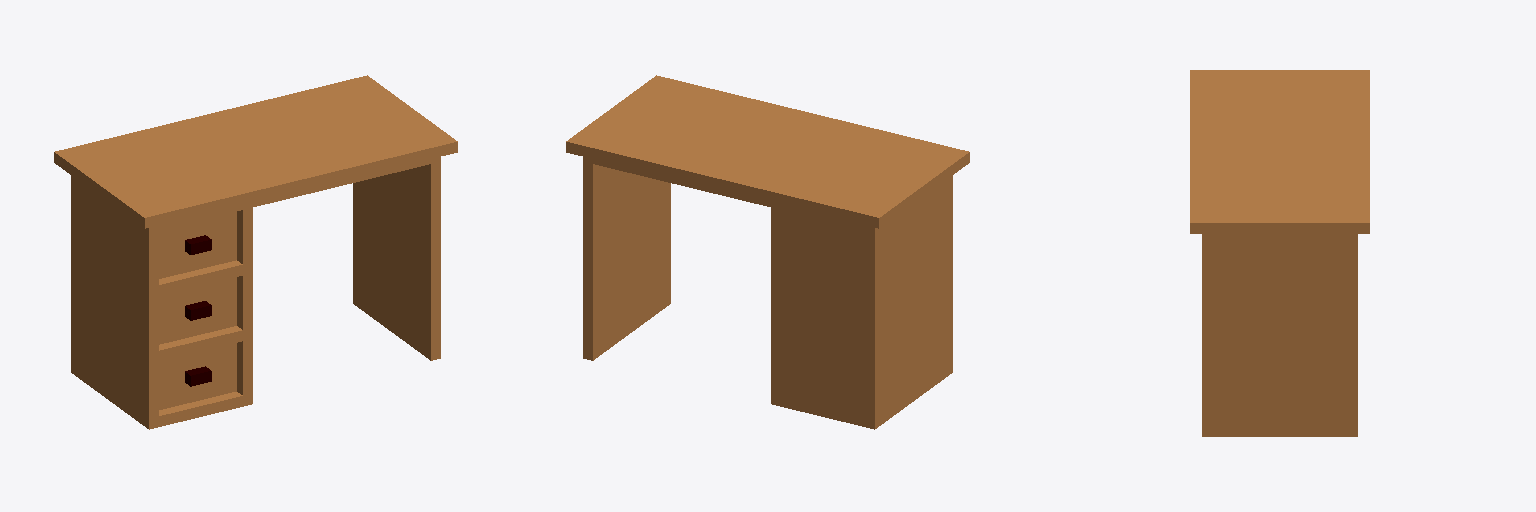
3 views of the same model, side by side, from view 1: azimuth 30°, elevation 25°; view 2: azimuth 150°, elevation 25°; view 3: azimuth 270°, elevation 25° (orthographic).
Parts seen in each view (by area): view 1: teacherTable_20; view 2: teacherTable_20; view 3: teacherTable_20.
Part boxes in pixels (left/top/right/bottom): teacherTable_20: left=54, top=75, right=457, bottom=429; teacherTable_20: left=566, top=75, right=969, bottom=429; teacherTable_20: left=1190, top=70, right=1369, bottom=436.
Size of the model in its own units: 3 by 2 by 1.5.
Materials: 1 (1 with a texture image).